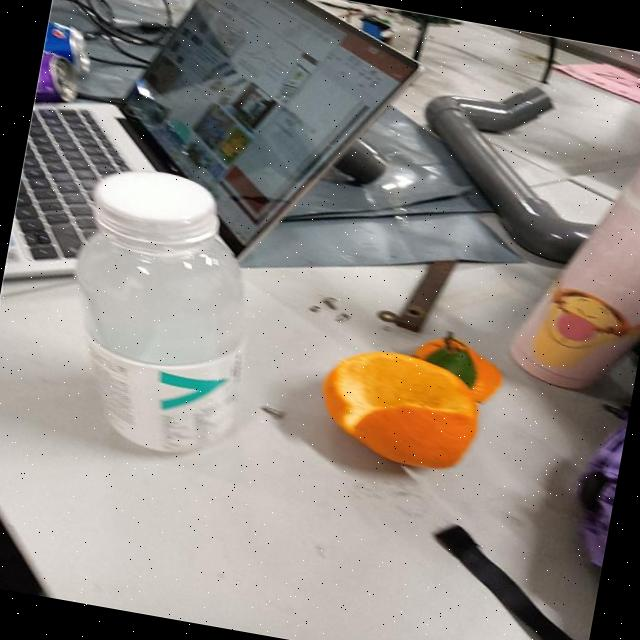orange-peel: (310, 337, 488, 476)
